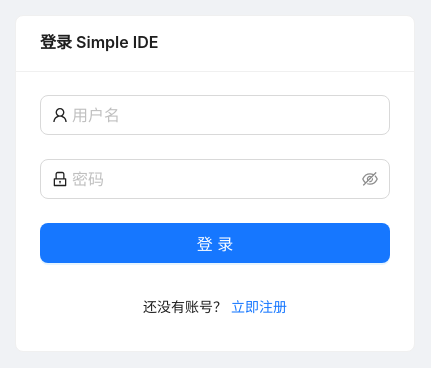
Test: Login Page › should show validation errors for empty fields
The width and height of the screenshot is (431, 368).
What coordinates should you click on to do the following:
click the button "登 录"
I would click on:
 (215, 242)
Its box is [40,222,390,262].
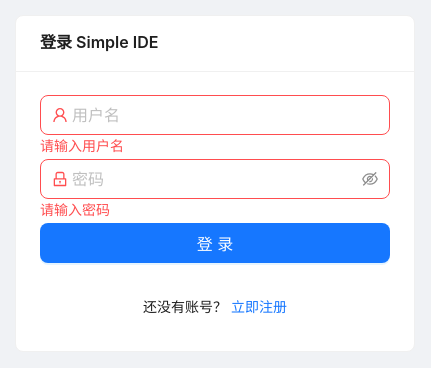
Expected: the text "请输入用户名" is shown, [40,136,124,154]
